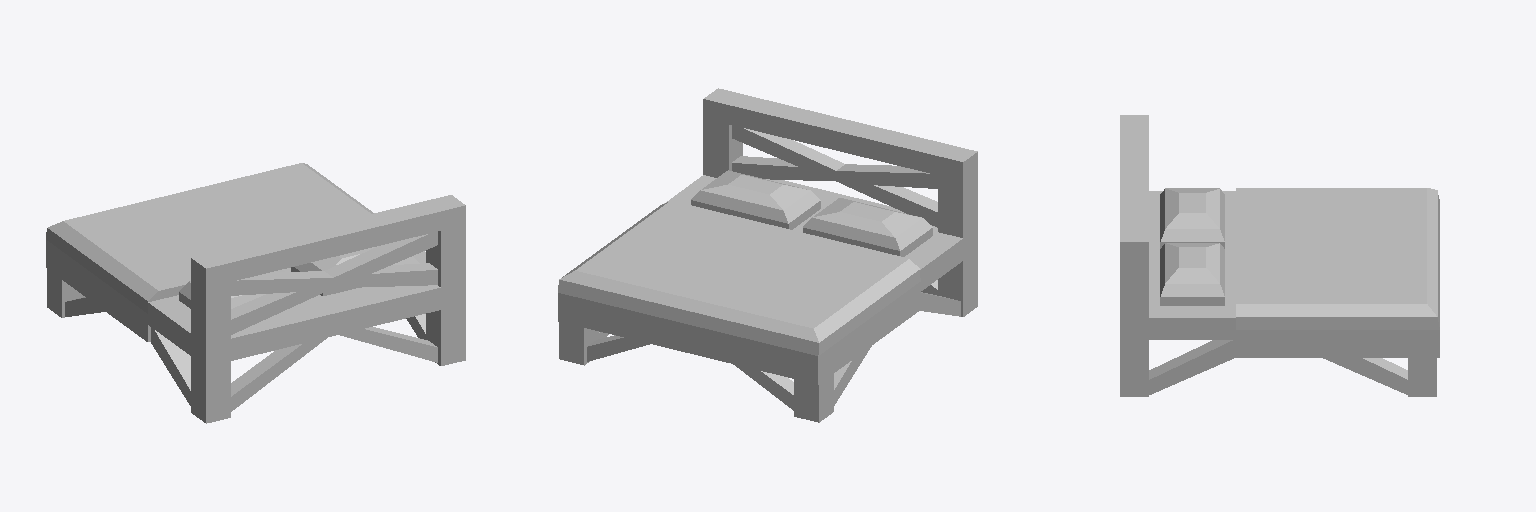
File: bed_double_infernalcaldera.obj
3 renders of one model, left to right at view 1: azimuth 30°, elevation 25°; view 2: azimuth 150°, elevation 25°; view 3: azimuth 270°, elevation 25°, orthographic.
Visible parts, largest first — view 1: bed_infernal_caldera_double; view 2: bed_infernal_caldera_double; view 3: bed_infernal_caldera_double.
Boxes of the visible parts, <box> form: bed_infernal_caldera_double: <box>46,163,465,423</box>; bed_infernal_caldera_double: <box>558,88,977,422</box>; bed_infernal_caldera_double: <box>1120,115,1439,396</box>.
Size of the model in its own units: 1.4 by 0.795 by 1.49.